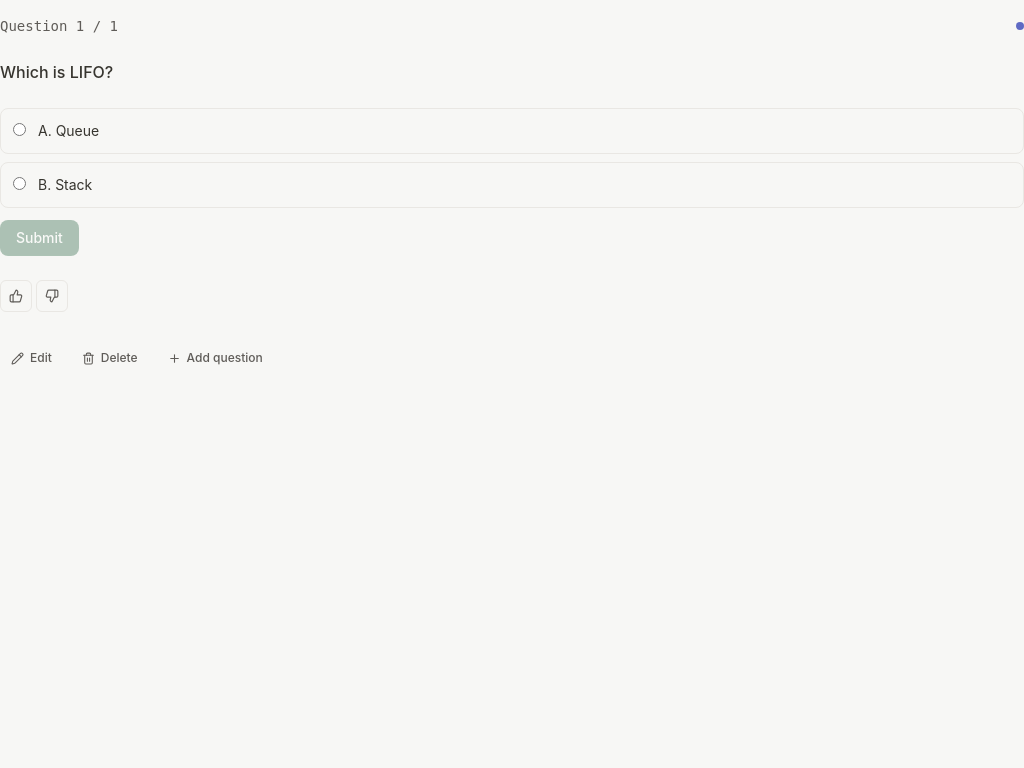
quiz editing › shows the options error and the missing-answer error together
expect the text "Which is LIFO?" is shown: met, box [0, 62, 113, 82]
Click the button "Add question" at (215, 358), box [157, 336, 274, 380]
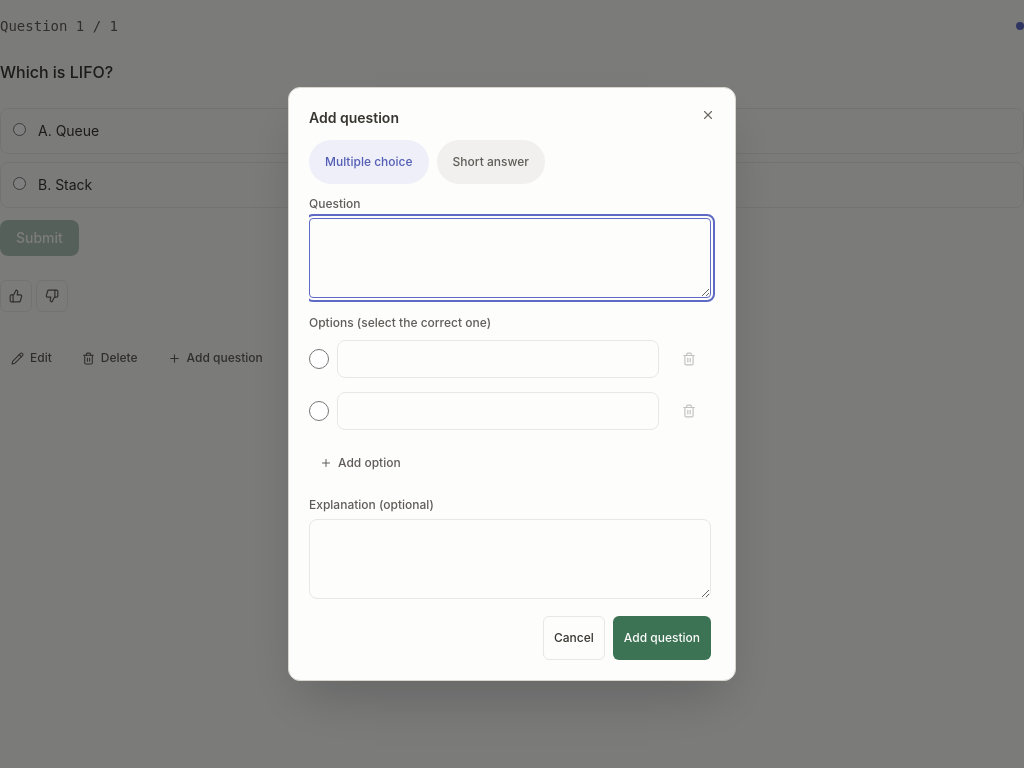
Click the button "Add question" at (662, 638), box [613, 616, 711, 660]
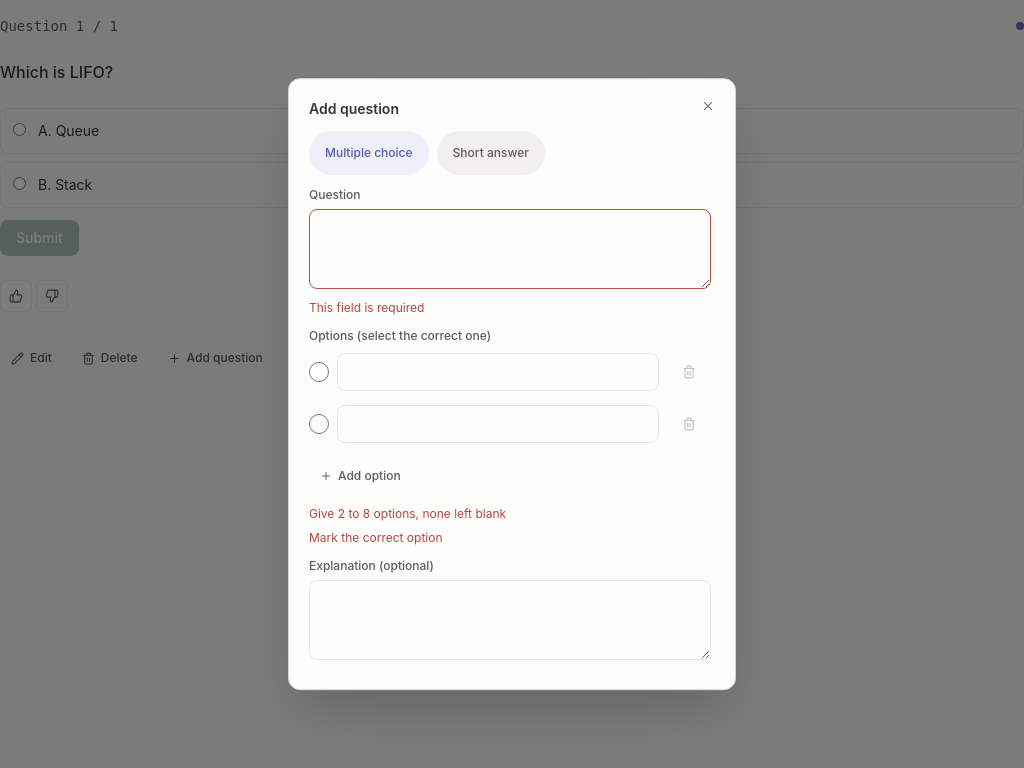
expect the text "Give 2 to 8 options, none left blank" is shown: met, box [309, 506, 506, 521]
expect the text "Mark the correct option" is shown: met, box [309, 530, 442, 545]
